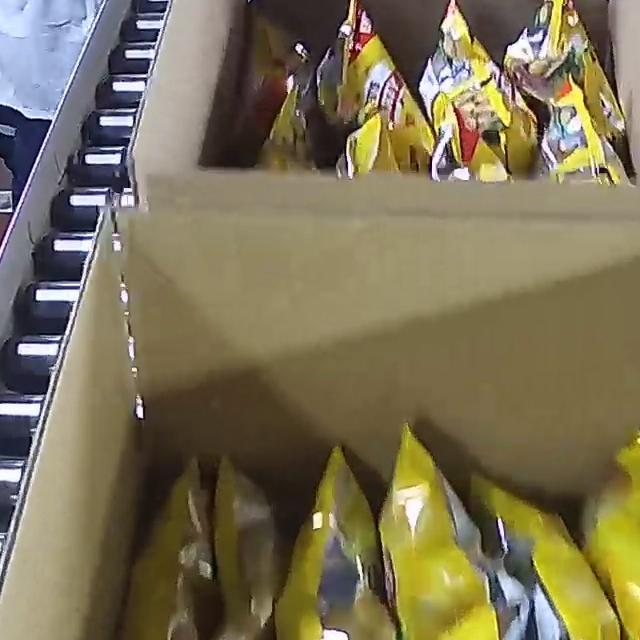salted: (121, 428, 640, 640), (257, 0, 627, 182)
